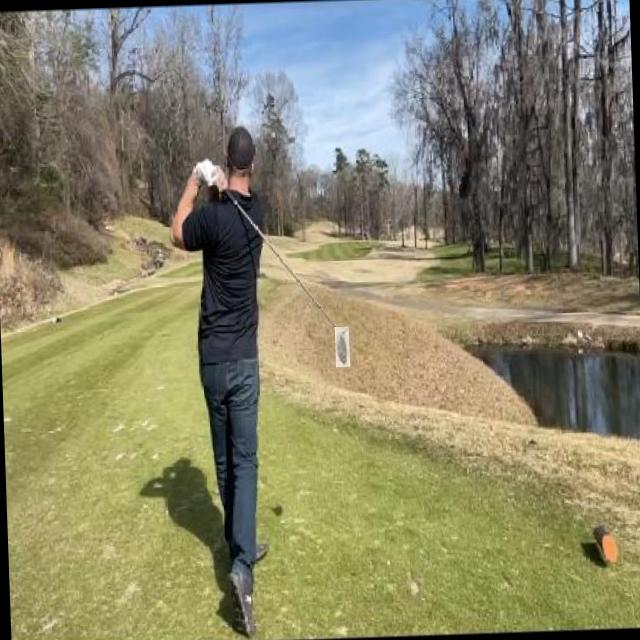club head: (334, 326, 350, 366)
